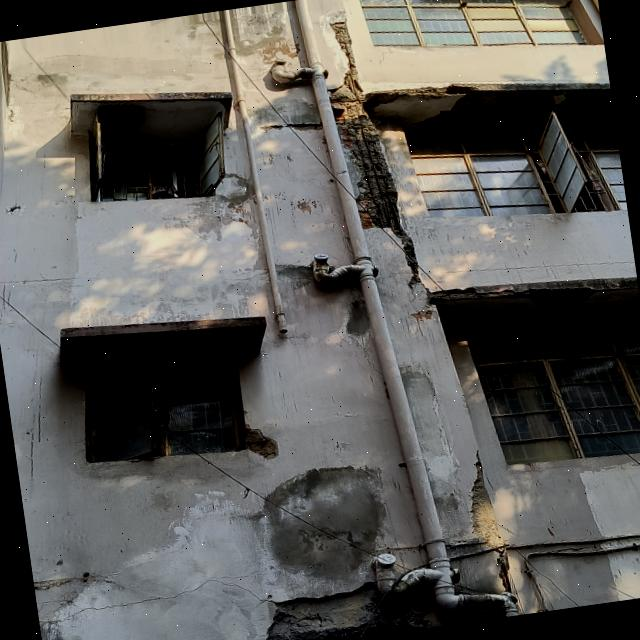Crack: (38, 572, 281, 629)
Incomplete Plaster Work: (259, 447, 408, 581), (275, 247, 372, 347)
Scaling: (240, 410, 285, 460)
Spalling: (330, 22, 419, 286), (266, 582, 504, 640), (430, 276, 638, 322), (363, 83, 503, 123)
pollution -moisture induced blackening: (68, 91, 249, 136), (507, 79, 614, 125)
